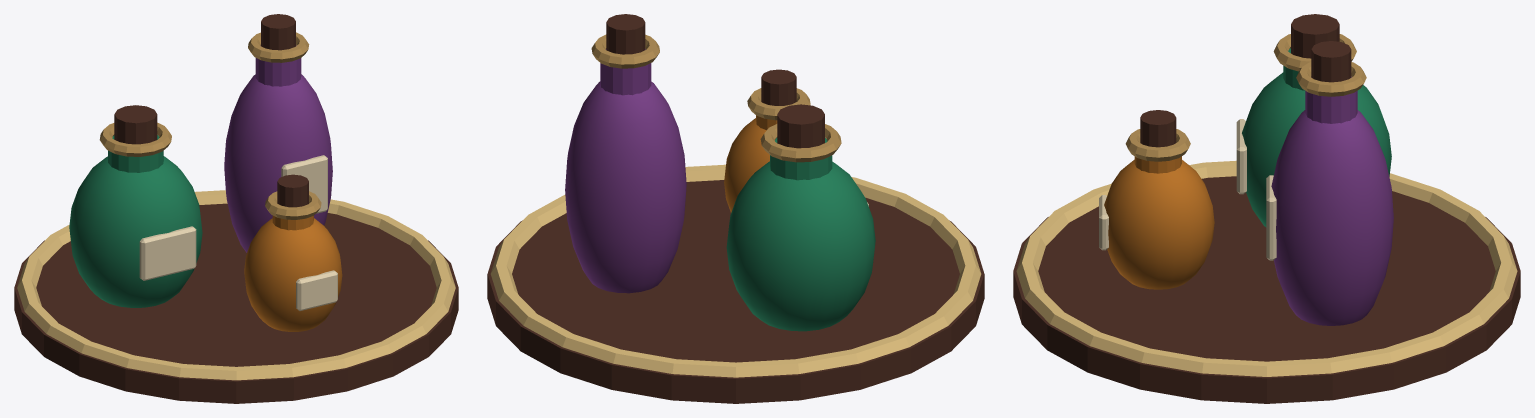
The model's file is wizard_potion_tray.glb.
3 renders of one model, left to right at view 1: azimuth 30°, elevation 25°; view 2: azimuth 150°, elevation 25°; view 3: azimuth 270°, elevation 25°, orthographic. The views are drawn at different scales.
Parts seen in each view (by area): view 1: wizard_potion_tray_Static; view 2: wizard_potion_tray_Static; view 3: wizard_potion_tray_Static.
Part boxes in pixels (bbox=[...]): wizard_potion_tray_Static: bbox=[14, 14, 458, 403]; wizard_potion_tray_Static: bbox=[487, 14, 984, 403]; wizard_potion_tray_Static: bbox=[1013, 14, 1520, 403].
Size of the model in its own units: 1.26 by 0.785 by 1.26.
